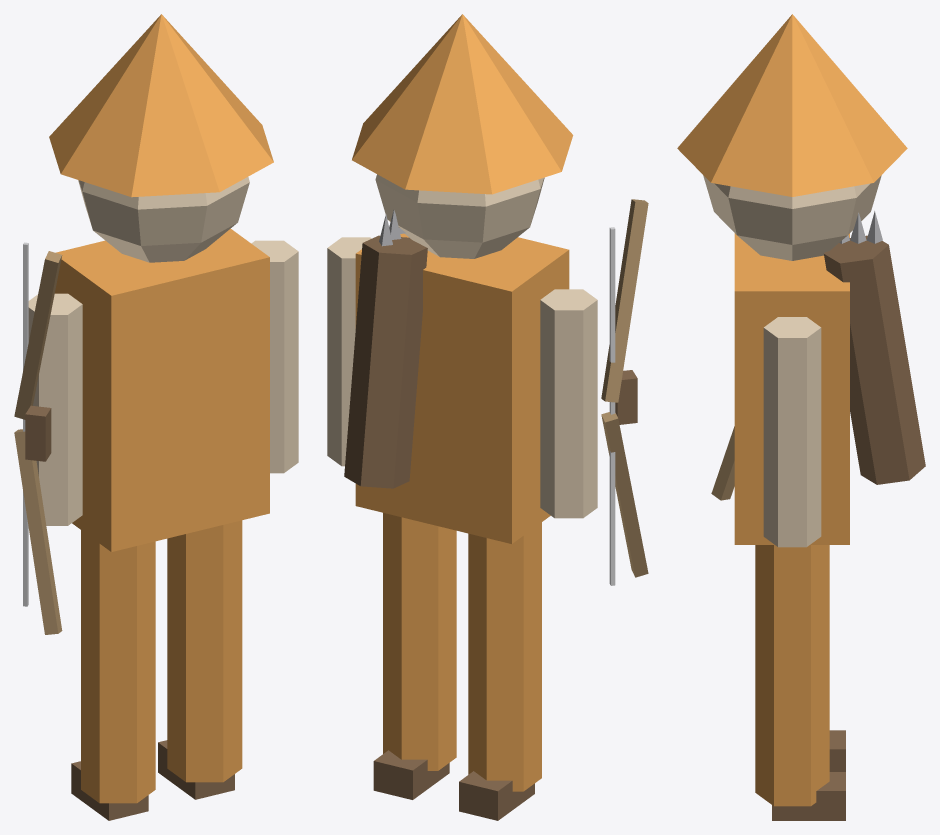
The model's file is ranged_orange.glb.
3 renders of one model, left to right at view 1: azimuth 30°, elevation 25°; view 2: azimuth 150°, elevation 25°; view 3: azimuth 270°, elevation 25°, orthographic.
Parts seen in each view (by area): view 1: Ranged_orange; view 2: Ranged_orange; view 3: Ranged_orange.
Part boxes in pixels (x1=…): Ranged_orange: x1=14, y1=14, x2=298, y2=820; Ranged_orange: x1=327, y1=14, x2=648, y2=820; Ranged_orange: x1=677, y1=14, x2=925, y2=820.
Bounding box in the file's own units: 0.3983 × 1.04 × 0.302.
